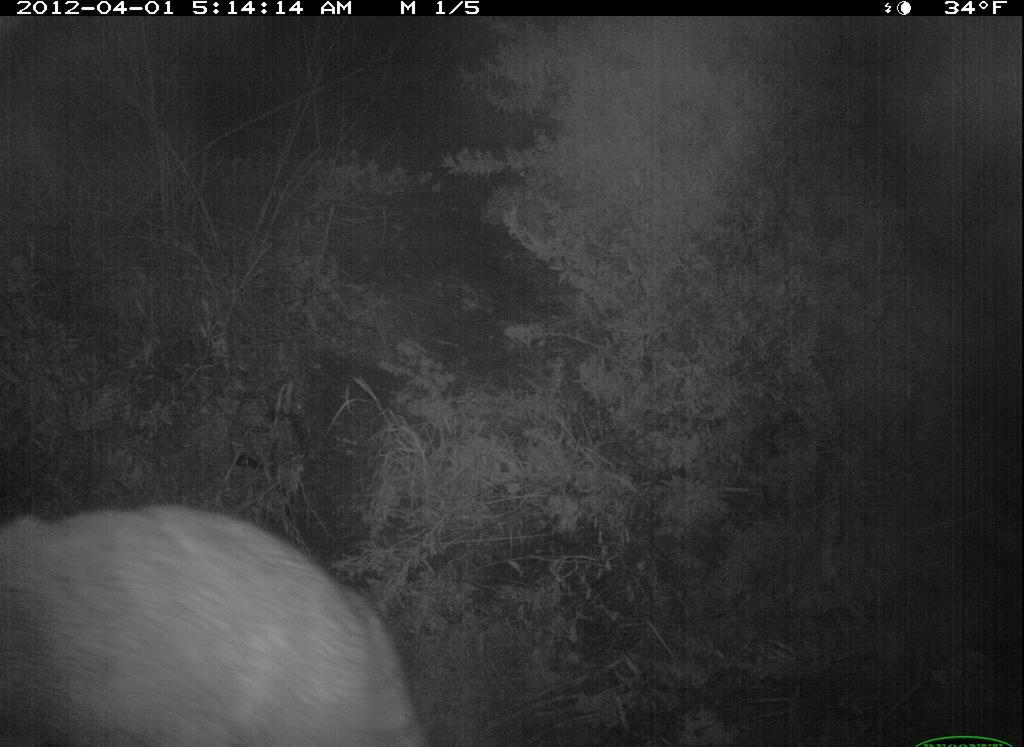raccoon: (2, 496, 431, 747)
